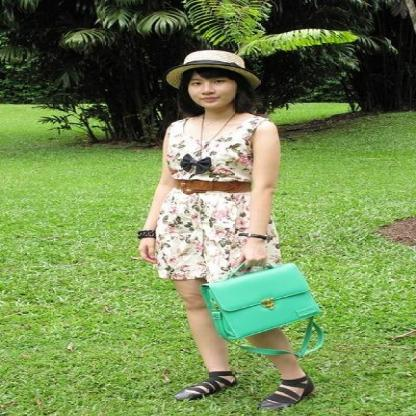bag: (194, 262, 322, 338)
dress: (142, 114, 274, 279)
hat: (166, 50, 236, 87)
shoe: (187, 366, 314, 415)
